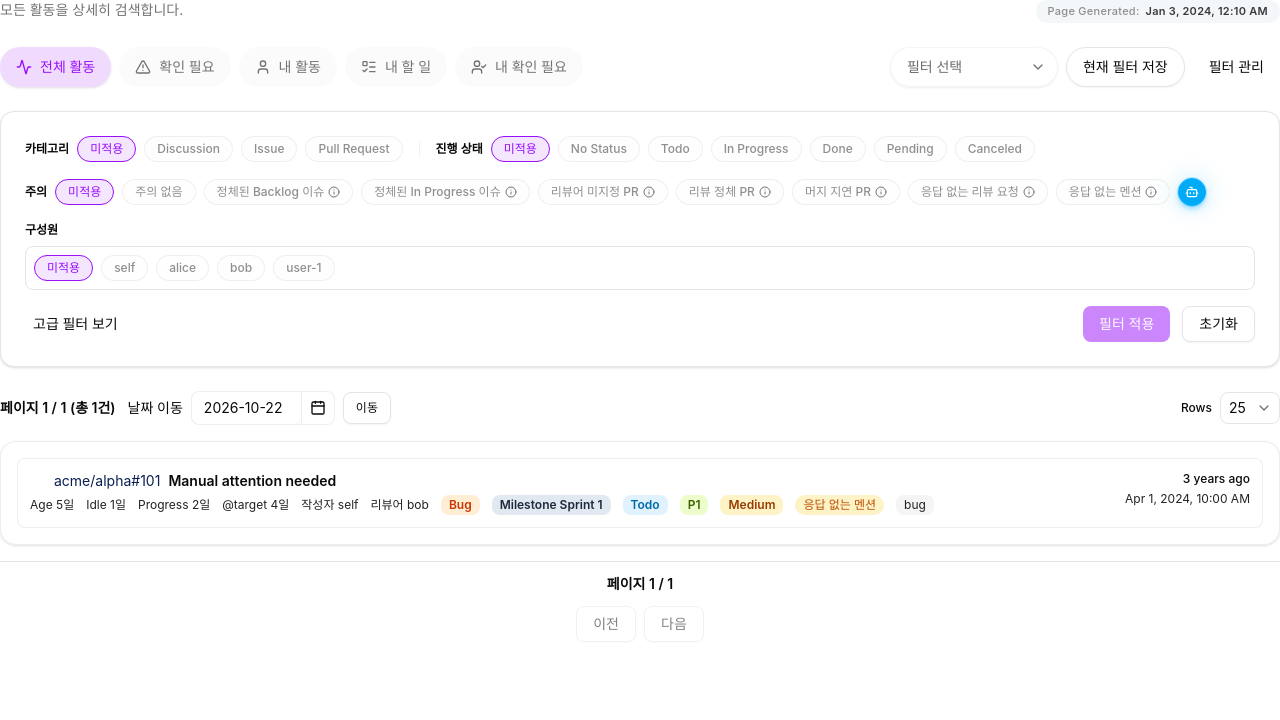
Test: ActivityView › applies manual mention override and updates overlay state
Click the button "Manual attention needed" at (640, 493), box [30,471,1250,515]
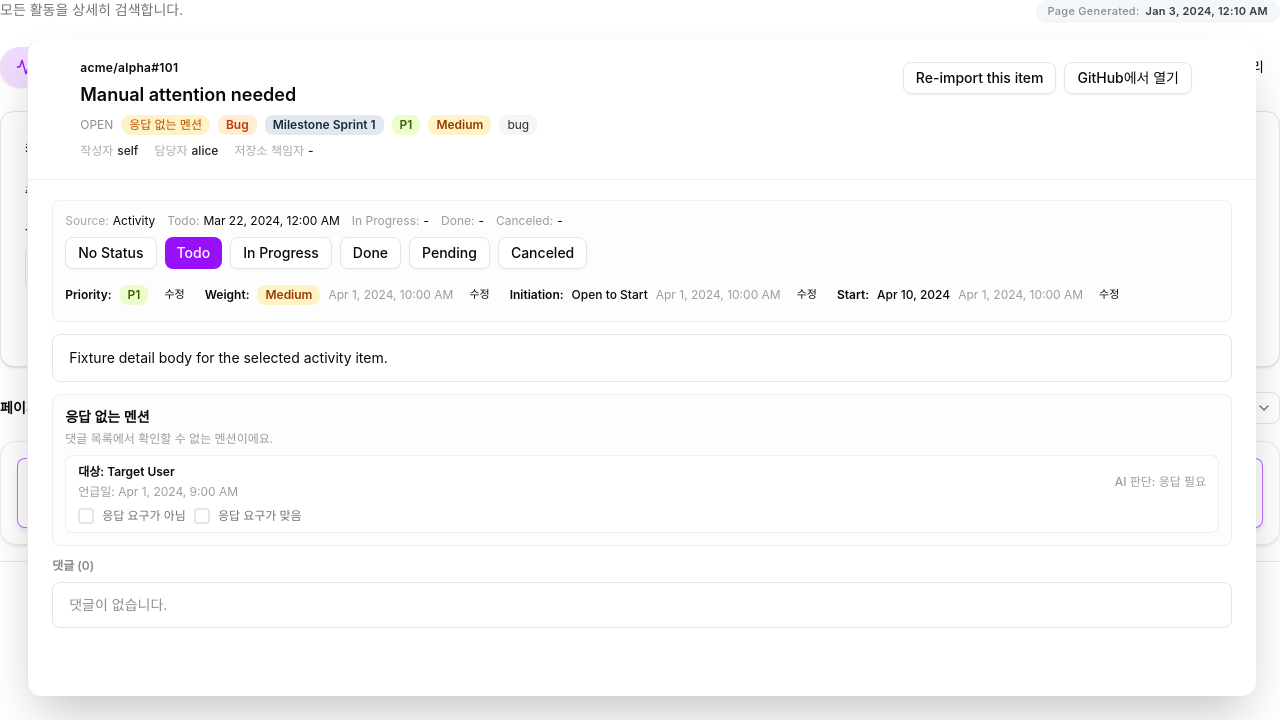
Click the checkbox labelled "응답 요구가 아님" at (132, 516), box [78,508,186,524]
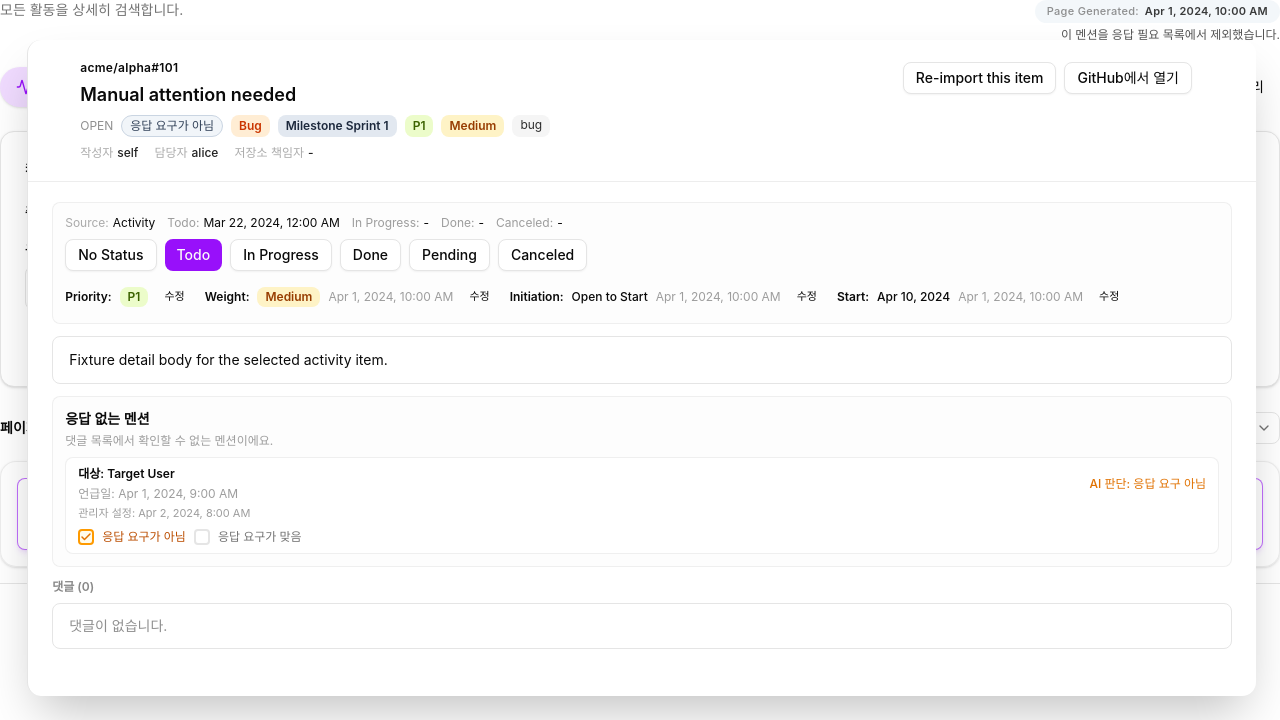
Check: the checkbox labelled "응답 요구가 아님" is checked, box [78,529,186,545]
Check: the text "관리자 설정: Apr 2, 2024, 8:00 AM" is shown, box [78,506,250,520]
